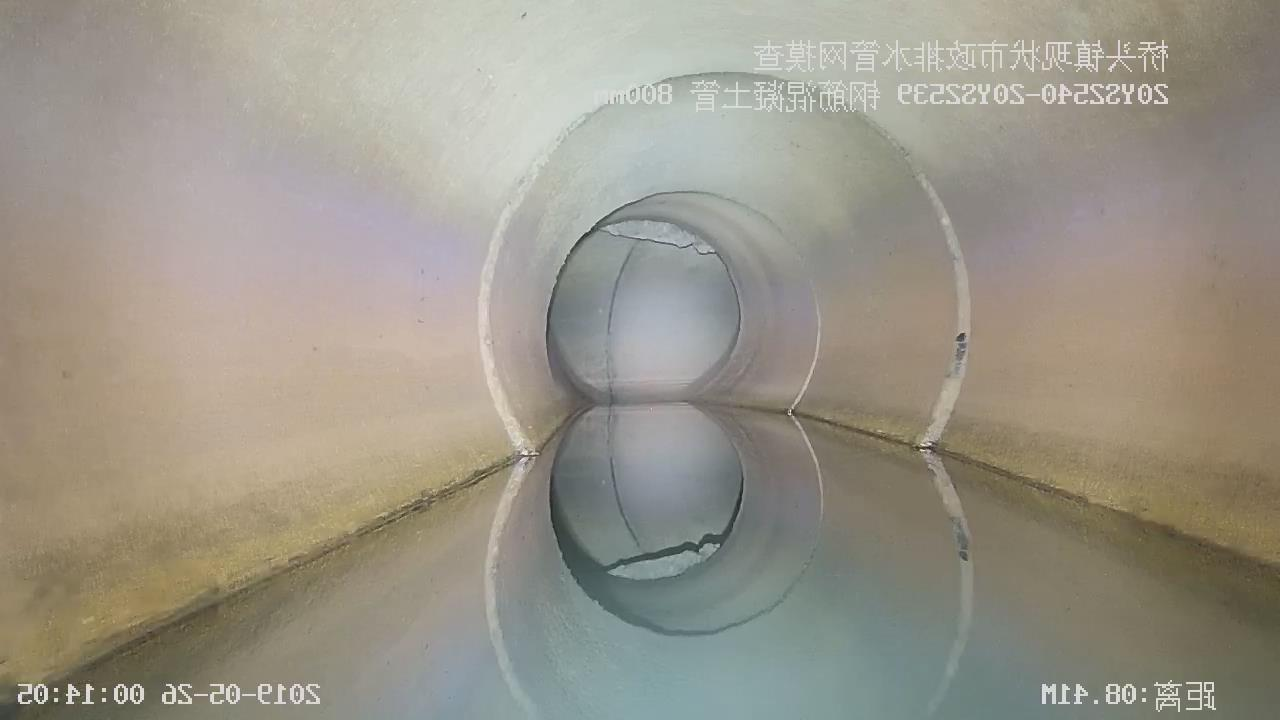CKTJ: (478, 153, 548, 458), (917, 175, 971, 452), (785, 294, 823, 418)
